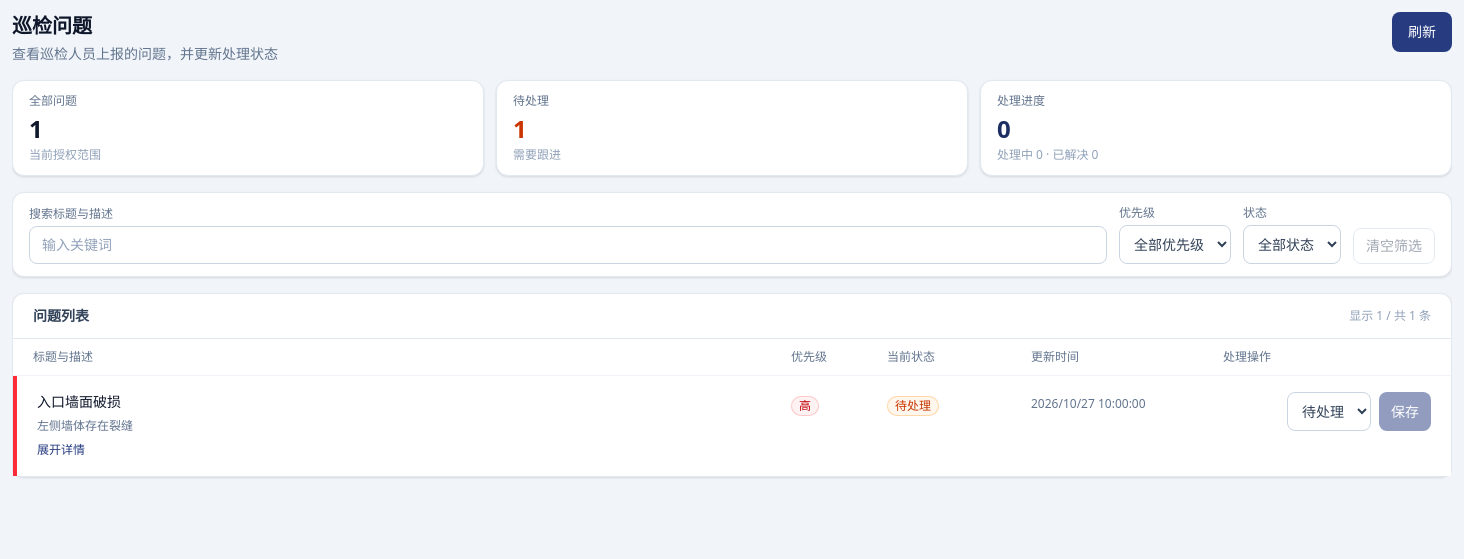
Scenario: 筛选 › 全部数据非空但筛选无结果显示“没有符合当前条件的问题”
Expected: the heading "入口墙面破损" is shown, 37,392 -> 121,411
Type "不存在的关键词" into the search field with placeholder "输入关键词" at x=568, y=245, box 29,226 -> 1107,264
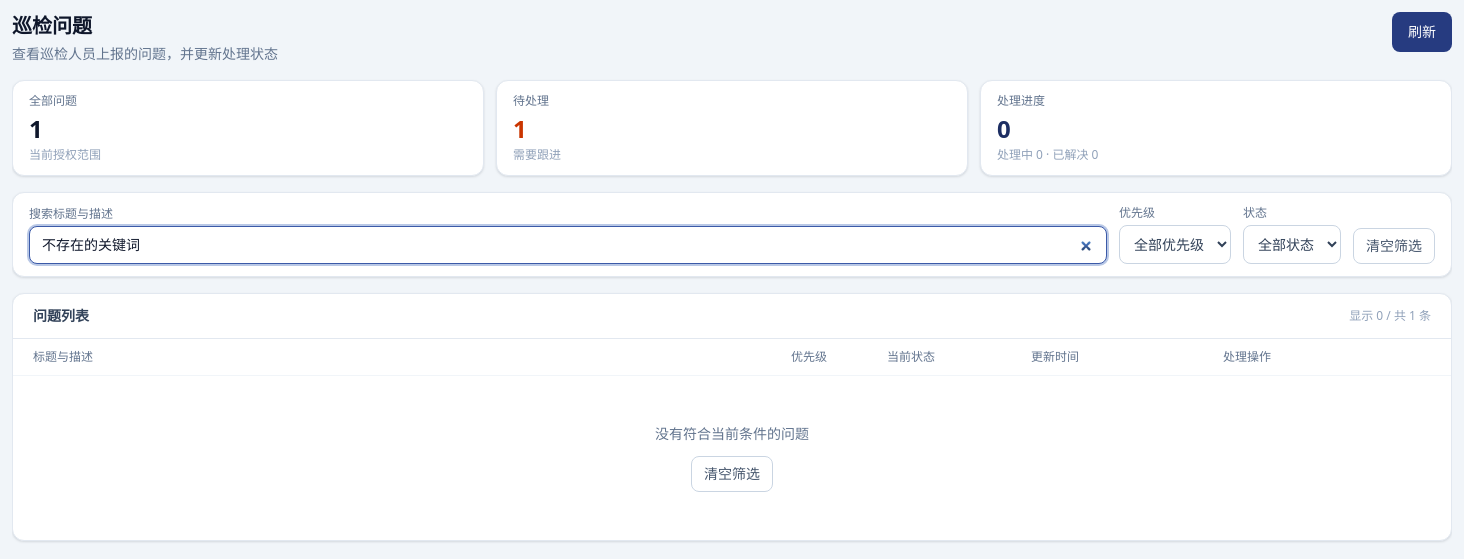
Result: the text "没有符合当前条件的问题" is shown at 655,424 -> 809,443
